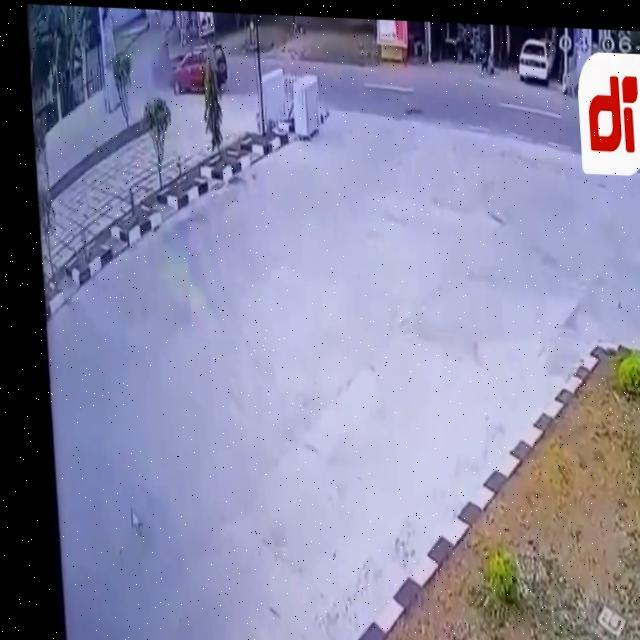multiple_accident: (143, 33, 250, 112)
